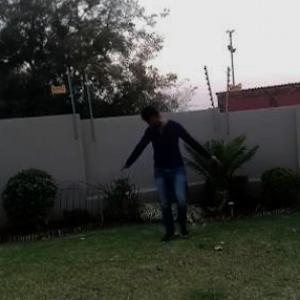land: (107, 95, 217, 255)
